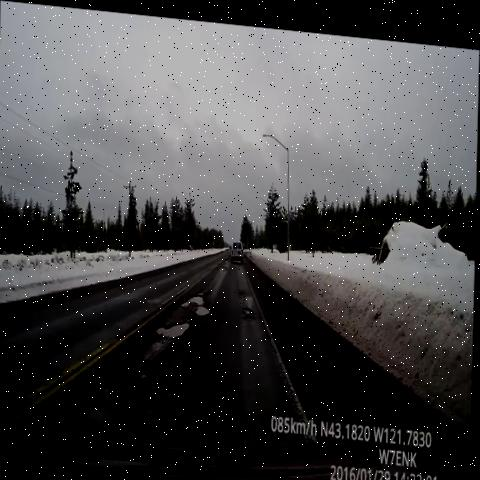pothole: (151, 304, 200, 353), (175, 282, 222, 321), (236, 275, 264, 327), (215, 253, 233, 278), (223, 249, 236, 263)
